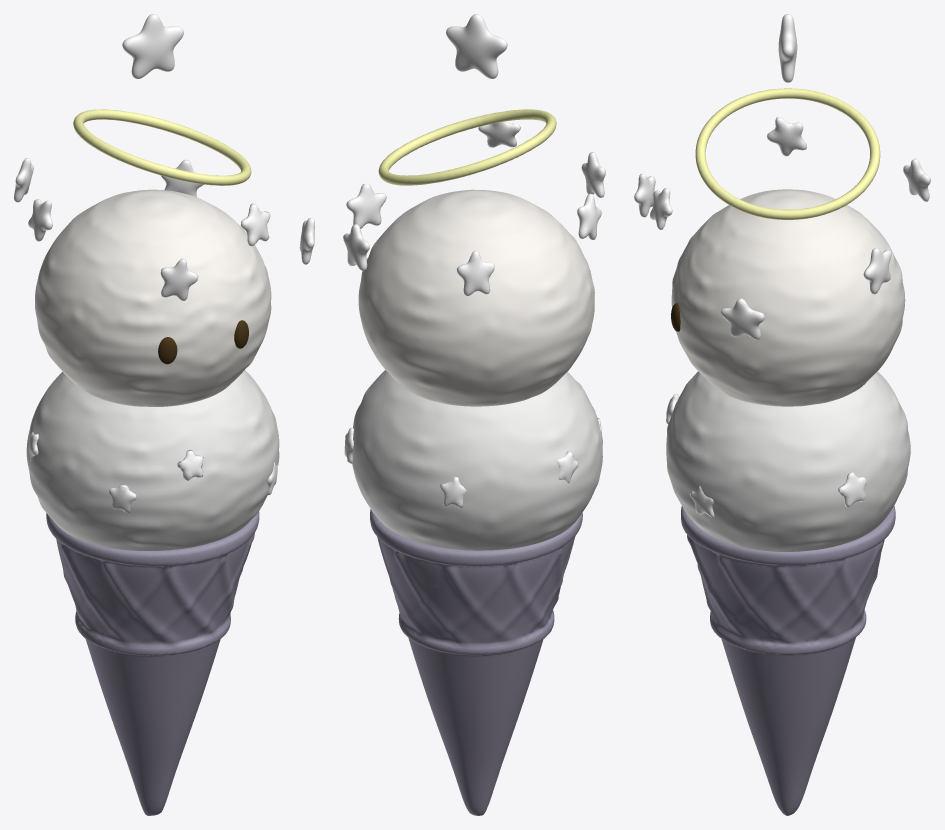
Rendered from ice_ghost.glb.
3 views of the same model, side by side, from view 1: azimuth 30°, elevation 25°; view 2: azimuth 150°, elevation 25°; view 3: azimuth 270°, elevation 25° (orthographic).
Visible parts, largest first — view 1: アイス下, アイス, コーン, 上段の星, トーラス, 上の星, 球 7下段の星, 球; view 2: アイス下, アイス, コーン, 上段の星, トーラス, 上の星, 球 7下段の星; view 3: アイス下, アイス, コーン, トーラス, 上段の星, 球 7下段の星, 上の星.
Boxes of the visible parts, left/top/right/bottom form: アイス下: left=35, top=189, right=271, bottom=406; アイス: left=26, top=370, right=279, bottom=550; コーン: left=46, top=512, right=259, bottom=815; 上段の星: left=14, top=158, right=314, bottom=300; トーラス: left=73, top=109, right=251, bottom=185; 上の星: left=122, top=14, right=183, bottom=78; 球 7下段の星: left=28, top=431, right=278, bottom=513; 球: left=158, top=320, right=248, bottom=364; アイス下: left=358, top=189, right=594, bottom=406; アイス: left=352, top=370, right=602, bottom=550; コーン: left=370, top=509, right=582, bottom=815; 上段の星: left=343, top=121, right=605, bottom=295; トーラス: left=378, top=109, right=556, bottom=185; 上の星: left=446, top=14, right=507, bottom=78; 球 7下段の星: left=344, top=418, right=601, bottom=508; アイス下: left=671, top=189, right=905, bottom=406; アイス: left=666, top=371, right=910, bottom=551; コーン: left=681, top=505, right=895, bottom=815; トーラス: left=695, top=88, right=880, bottom=219; 上段の星: left=634, top=117, right=930, bottom=339; 球 7下段の星: left=666, top=394, right=907, bottom=517; 上の星: left=778, top=14, right=797, bottom=82.
Size of the model in its own units: 1.29 by 3.77 by 1.27.
